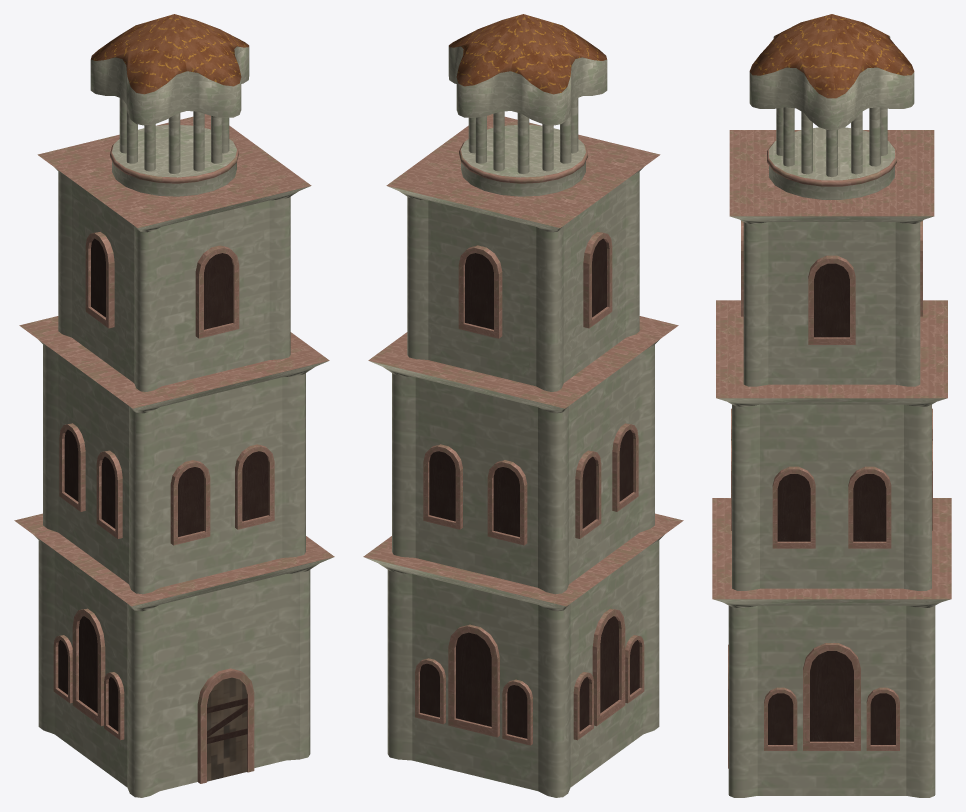
Rendered from SM_Tower_005.fbx.
3 renders of one model, left to right at view 1: azimuth 30°, elevation 25°; view 2: azimuth 150°, elevation 25°; view 3: azimuth 270°, elevation 25°, orthographic.
Visible parts, largest first — view 1: pCylinder58; view 2: pCylinder58; view 3: pCylinder58.
Part boxes in pixels (<box>): pCylinder58: <box>14,14,334,797</box>; pCylinder58: <box>363,14,683,797</box>; pCylinder58: <box>712,14,951,797</box>.
Bounding box in the file's own units: 334 × 1142 × 334.
